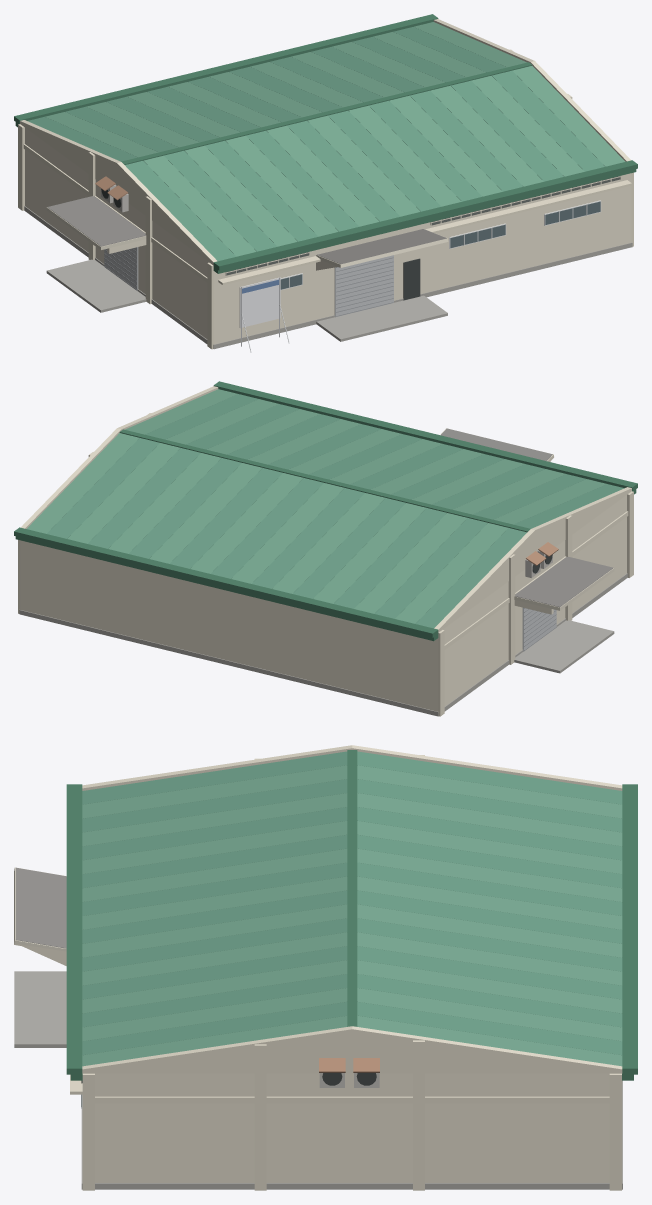
The model's file is warehouse_5.glb.
3 views of the same model, one above another, from view 1: azimuth 30°, elevation 25°; view 2: azimuth 150°, elevation 25°; view 3: azimuth 270°, elevation 25° (orthographic). The views are drawn at different scales.
Parts seen in each view (by area): view 1: WH5_CombinedMesh; view 2: WH5_CombinedMesh; view 3: WH5_CombinedMesh.
Part boxes in pixels (x1,y1,x2,y2): WH5_CombinedMesh: (14,14,637,352); WH5_CombinedMesh: (14,381,637,716); WH5_CombinedMesh: (14,745,637,1190).
Bounding box in the file's own units: 27.64 × 6.36 × 22.46.
